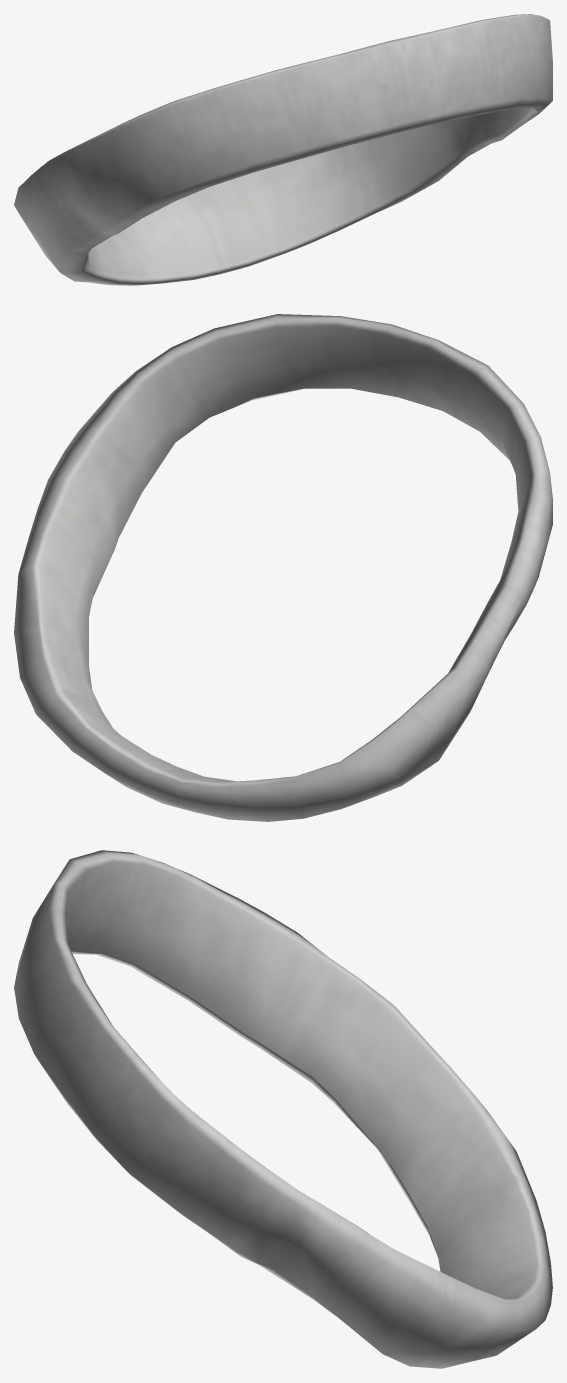
File: p0_hdw0010_00_hdw00.gltf
3 views of the same model, one above another, from view 1: azimuth 30°, elevation 25°; view 2: azimuth 150°, elevation 25°; view 3: azimuth 270°, elevation 25° (orthographic). The views are drawn at different scales.
Visible parts, largest first — view 1: hdw00_band_mesh_shape:cap; view 2: hdw00_band_mesh_shape:cap; view 3: hdw00_band_mesh_shape:cap.
Boxes of the visible parts, <box> form: hdw00_band_mesh_shape:cap: <box>14,14,552,285</box>; hdw00_band_mesh_shape:cap: <box>14,314,552,821</box>; hdw00_band_mesh_shape:cap: <box>14,850,552,1368</box>.
Size of what is drawn, in the model's own units: 0.2427 by 0.175 by 0.2027.
Materials: 1 (1 with a texture image).
